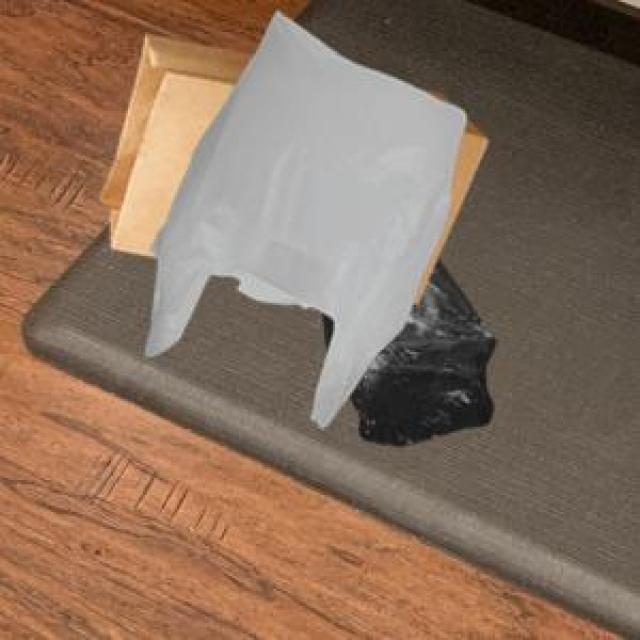paper: (96, 32, 380, 293)
